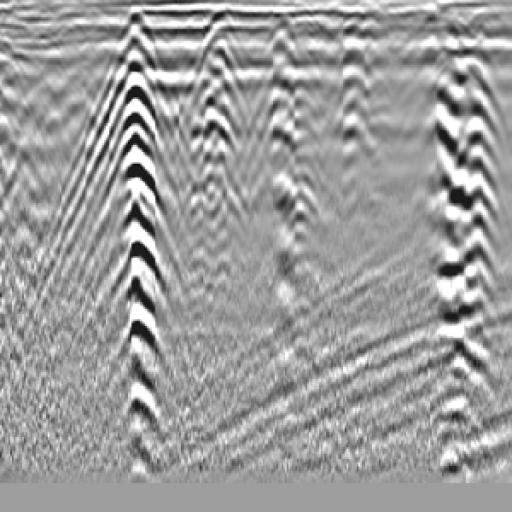metalic: (327, 22, 385, 195)
